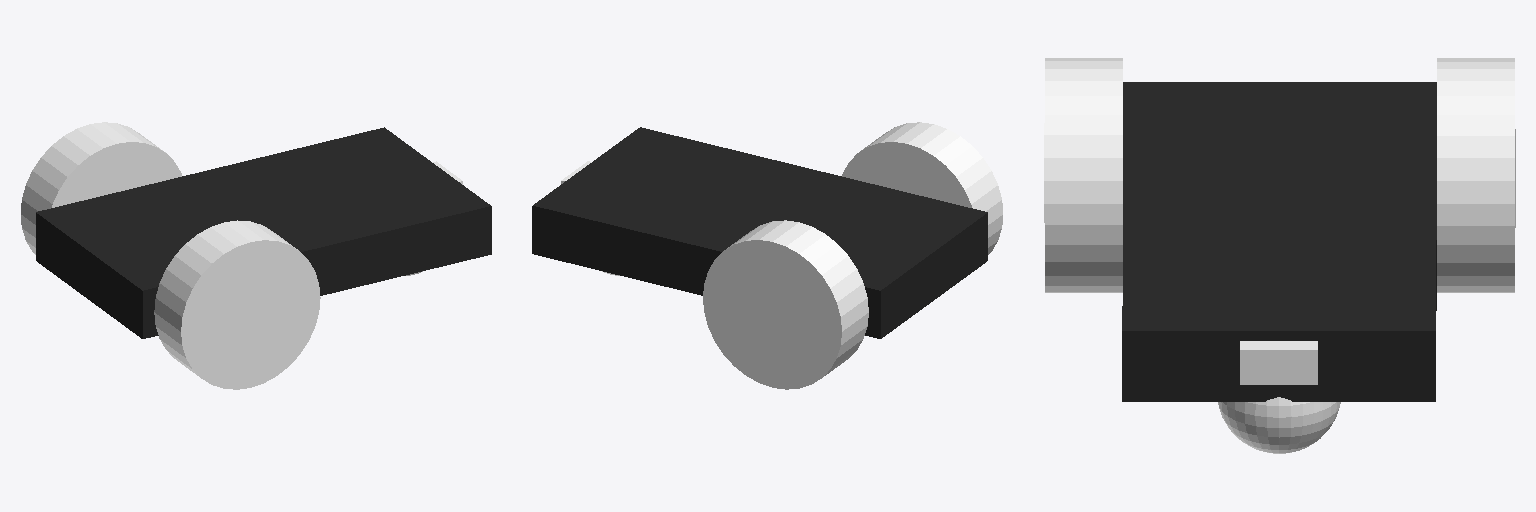
The robot description file, URDF, robot "three_wheeled_robot":
<?xml version="1.0" ?>

<robot name = "three_wheeled_robot">

  <link name="base_footprint"/>

    <link name="base">
        <visual>
        <geometry>
            <box size="0.75 0.4 0.1"/>
        </geometry>
        <material name="gray">
            <color rgba=".2 .2 .2 1" />
        </material>
        </visual>

        <inertial>
            <mass value="1" />
            <inertia ixx="0.01" ixy="0.0" ixz="0" iyy="0.01" iyz="0" izz="0.01" />
        </inertial>

        <collision>
        <geometry>
            <box size="0.75 0.4 0.1"/>
        </geometry>
        </collision>

    </link>

    <joint name="footprint_joint" type="fixed">
      <origin xyz="0.0 0.0 0.0" rpy="0.0 0.0 3.14"/>
      <parent link="base_footprint"/>
      <child link="base"/>
      <axis xyz="0.0 0.0 0.0"/>
  </joint>

    <link name="wheel_right_link">
        <inertial>
                <mass value="2" />
                <inertia ixx="0.01" ixy="0.0" ixz="0"
                iyy="0.01" iyz="0" izz="0.01" />
        </inertial>
    
        <visual>
            <geometry>
              <cylinder radius="0.15" length="0.1"/>
            </geometry>
            <material name="white">
            <color rgba="1 1 1 1"/>
            </material>
        </visual>
    
        <collision>        
            <geometry>
              <cylinder radius="0.15" length="0.1"/>
            </geometry>
          <contact_coefficients mu="1" kp="1e+13" kd="1.0"/>
        </collision>
    </link>
    
    <joint name="wheel_right_joint" type="continuous">
        <origin xyz="0.2 0.25 0.0" rpy="1.57 0.0 0.0"/>
        <parent link="base"/>
        <child link="wheel_right_link"/>
        <axis xyz="0.0 0.0 1.0"/>
    </joint>
    
    
    
    <link name="wheel_left_link">
        <inertial>
            <mass value="2" />
            <inertia ixx="0.01" ixy="0.0" ixz="0"
                iyy="0.01" iyz="0" izz="0.01" />
        </inertial>
    
        <visual>          
          <geometry>
              <cylinder radius="0.15" length="0.1"/>
          </geometry>
          <material name="white">
            <color rgba="1 1 1 1"/>
          </material>
        </visual>
    
        <collision>
          <geometry>
              <cylinder radius="0.15" length="0.1"/>
          </geometry>
          <contact_coefficients mu="1" kp="1e+13" kd="1.0"/>
        </collision>
    </link>
    
    <joint name="wheel_left_joint" type="continuous">
        <origin xyz="0.2 -0.25 0.0" rpy="1.57 0.0 0.0"/>
        <parent link="base"/>
        <child link="wheel_left_link"/>
        <axis xyz="0.0 0.0 1.0"/>    
    </joint>
    
    
    
    <link name="caster">
        <inertial>
                <mass value="1" />
                <inertia ixx="0.01" ixy="0.0" ixz="0"
                iyy="0.01" iyz="0" izz="0.01" />
        </inertial>
    
        <visual>        
          <geometry>
            <sphere radius=".08" />
          </geometry>
          <material name="white" />
        </visual>
    
        <collision>
          <origin/>
          <geometry>
            <sphere radius=".08" />
          </geometry>
        </collision>
    </link>
    
    <joint name="caster_joint" type="continuous">
        <origin xyz="-0.3 0.0 -0.07" rpy="0.0 0.0 0.0"/>
        <axis xyz="0 0 1" />
        <parent link="base"/>
        <child link="caster"/>
    </joint>
     
    <link name="camera">
        <inertial>
                <mass value="0.1" />
                <inertia ixx="0.01" ixy="0.0" ixz="0"
                iyy="0.01" iyz="0" izz="0.01" />
        </inertial>
    
        <visual>          
          <geometry>
            <box size="0.1 0.1 0.05"/>
          </geometry>
          <material name="white">
            <color rgba="1 1 1 1"/>
          </material>
        </visual>

        <collision>
          <geometry>
              <box size="0.1 0.1 0.05"/>
          </geometry>
        </collision>
    </link>
    
    <joint name="camera_joint" type="fixed">
        <origin xyz="-0.35 0 0.01" rpy="0 0.0 3.14"/>
        <parent link="base"/>
        <child link="camera"/>
        <axis xyz="0.0 0.0 1.0"/>    
    </joint>
    

    


    <!--http://wiki.ros.org/simulator_gazebo/Tutorials/ListOfMaterials-->
    <gazebo reference="base">
        <material>Gazebo/WhiteGlow</material>
    </gazebo>
    <gazebo reference="wheel_left_link">
        <material>Gazebo/SkyBlue</material>
    </gazebo>
    <gazebo reference="wheel_right_link">
        <material>Gazebo/SkyBlue </material>
    </gazebo>
    <gazebo reference="caster">
        <material>Gazebo/Grey</material>
    </gazebo>
    <gazebo reference="lidar">
        <material>Gazebo/Blue</material>
    </gazebo>
    <gazebo reference="camera">
        <material>Gazebo/Red</material>
    </gazebo>


    <!--camera rot-->
    <joint name="camera_joint_rot" type="fixed">
      <parent link="camera" />
      <child link="camera_bottom_screw_frame" />
      <origin xyz="0 0.0 0" rpy="0 0 0" />
    </joint>

    <link name="camera_link_depth"></link>
    <link name="camera_bottom_screw_frame"></link>
    <link name="camera_depth_frame"></link>
    <link name="camera_depth_optical_frame"></link>
    <link name="camera_color_frame"></link>
    <link name="camera_color_optical_frame"></link>
    <link name="camera_left_ir_frame"></link>
    <link name="camera_left_ir_optical_frame"></link>
    <link name="camera_right_ir_frame"></link>
    <link name="camera_right_ir_optical_frame"></link>


    <joint name="camera_link_joint" type="fixed">
      <parent link="camera_bottom_screw_frame" />
      <child link="camera_link_depth" />
      <origin xyz="0 0.0 0.0 " rpy="0 0 0" />
    </joint>
    
    <joint name="camera_depth_joint" type="fixed">
      <parent link="camera_link_depth" />
      <child link="camera_depth_frame" />
      <origin xyz="0 0 0" rpy="0 0 0" />
    </joint>
    <joint name="camera_depth_optical_joint" type="fixed">
      <parent link="camera_depth_frame" />
      <child link="camera_depth_optical_frame" />
      <origin xyz="0 0 0 " rpy="-1.57 0 -1.57" />
    </joint>
    <joint name="camera_color_joint" type="fixed">
      <parent link="camera_depth_frame" />
      <child link="camera_color_frame" />
      <origin xyz="0 0 0" rpy="0 0 0" />
    </joint>
    <joint name="camera_color_optical_joint" type="fixed">
      <parent link="camera_color_frame" />
      <child link="camera_color_optical_frame" />
      <origin xyz="0 0 0 " rpy="-1.57 0 -1.57" />
    </joint>
    <joint name="camera_left_ir_joint" type="fixed">
      <parent link="camera_depth_frame" />
      <child link="camera_left_ir_frame" />
      <origin xyz="0 0 0 " rpy="0 0 0 " />
    </joint>
    <joint name="camera_left_ir_optical_joint" type="fixed">
      <parent link="camera_left_ir_frame" />
      <child link="camera_left_ir_optical_frame" />
      <origin xyz="0 0 0 " rpy="-1.57 0 -1.57" />
    </joint>
    <joint name="camera_right_ir_joint" type="fixed">
      <parent link="camera_depth_frame" />
      <child link="camera_right_ir_frame" />
      <origin xyz="0 -0.050 0 " rpy="0 0 0" />
    </joint>
    <joint name="camera_right_ir_optical_joint" type="fixed">
      <parent link="camera_right_ir_frame" />
      <child link="camera_right_ir_optical_frame" />
      <origin xyz="0 0 0 " rpy="-1.57 0 -1.57" />
    </joint>
    
    




    <!--camera rot end-->
  
    <!-- differential robot-->
    <gazebo>
        <plugin filename="libgazebo_ros_diff_drive.so" name="gazebo_base_controller">
          <alwaysOn>true</alwaysOn>
          <odometryTopic>odom</odometryTopic>
          <odometryFrame>odom</odometryFrame>
          <commandTopic>cmd_vel</commandTopic>
          <publish_odom>true</publish_odom>
          <publish_odom_tf>true</publish_odom_tf>
          <update_rate>60.0</update_rate>
    
          <leftJoint>wheel_left_joint</leftJoint>
          <rightJoint>wheel_right_joint</rightJoint>
          <publishWheelJointState>true</publishWheelJointState>
          <publishWheelTF>false</publishWheelTF>
          
          <wheel_separation>0.5</wheel_separation>
          <wheel_diameter>0.3</wheel_diameter>
          <max_wheel_acceleration>0.7</max_wheel_acceleration>
          <max_wheel_torque>8</max_wheel_torque>
          <robotBaseFrame>base_footprint</robotBaseFrame>
        </plugin>
    </gazebo>
    
    <!-- camera plugin-->
    <gazebo reference="camera_bottom_screw_frame"> 
      <sensor name="cameradepth" type="depth">
              <camera name="camera">
                  <horizontal_fov>1.2043</horizontal_fov>
                  <image>
                      <width>1280</width>
                      <height>720</height>
                      <format>R8G8B8</format>
                  </image>
                  <clip>
                      <near>0.1</near>
                      <far>100</far>
                  </clip>
              </camera>
              <always_on>1</always_on>
              <update_rate>30</update_rate>
              <visualize>0</visualize>
          </sensor>
          <sensor name="cameracolor" type="camera">
              <camera name="camera">
                  <horizontal_fov>1.2043</horizontal_fov>
                  <image>
                      <width>1280</width>
                      <height>720</height>
                      <format>RGB_INT8</format>
                  </image>
                  <clip>
                      <near>0.1</near>
                      <far>100</far>
                  </clip>
                  <noise>
                      <type>gaussian</type>
                      <mean>0.0</mean>
                      <stddev>0.007</stddev>
                  </noise>
              </camera>
              <always_on>1</always_on>
              <update_rate>30</update_rate>
              <visualize>0</visualize>
          </sensor>
          <sensor name="cameraired1" type="camera">
              <camera name="camera">
                  <horizontal_fov>1.2043</horizontal_fov>
                  <image>
                      <width>1280</width>
                      <height>720</height>
                      <format>L_INT8</format>
                  </image>
                  <clip>
                      <near>0.1</near>
                      <far>100</far>
                  </clip>
                  <noise>
                      <type>gaussian</type>
                      <mean>0.0</mean>
                      <stddev>0.05</stddev>
                  </noise>
              </camera>
              <always_on>1</always_on>
              <update_rate>1</update_rate>
              <visualize>0</visualize>
          </sensor>
          <sensor name="cameraired2" type="camera">
              <camera name="camera">
                  <horizontal_fov>1.2043</horizontal_fov>
                  <image>
                      <width>1280</width>
                      <height>720</height>
                      <format>L_INT8</format>
                  </image>
                  <clip>
                      <near>0.1</near>
                      <far>100</far>
                  </clip>
                  <noise>
                      <type>gaussian</type>
                      <mean>0.0</mean>
                      <stddev>0.05</stddev>
                  </noise>
              </camera>
              <always_on>1</always_on>
              <update_rate>1</update_rate>
              <visualize>0</visualize>
          </sensor>

    
    </gazebo>

<!-- Adding plugin -->
    <gazebo>
    <plugin name="camera" filename="librealsense_gazebo_plugin.so">
          <prefix>camera</prefix>
          <depthUpdateRate>15.0</depthUpdateRate>
          <colorUpdateRate>15.0</colorUpdateRate>
          <infraredUpdateRate>15.0</infraredUpdateRate>
          <depthTopicName>aligned_depth_to_color/image_raw</depthTopicName>
          <depthCameraInfoTopicName>depth/camera_info</depthCameraInfoTopicName>
          <colorTopicName>color/image_raw</colorTopicName>
          <colorCameraInfoTopicName>color/camera_info</colorCameraInfoTopicName>
          <infrared1TopicName>infra1/image_raw</infrared1TopicName>
          <infrared1CameraInfoTopicName>infra1/camera_info</infrared1CameraInfoTopicName>
          <infrared2TopicName>infra2/image_raw</infrared2TopicName>
          <infrared2CameraInfoTopicName>infra2/camera_info</infrared2CameraInfoTopicName>
          <colorOpticalframeName>camera_color_optical_frame</colorOpticalframeName>
          <depthOpticalframeName>camera_depth_optical_frame</depthOpticalframeName>
          <infrared1OpticalframeName>camera_left_ir_optical_frame</infrared1OpticalframeName>
          <infrared2OpticalframeName>camera_right_ir_optical_frame</infrared2OpticalframeName>
          <rangeMinDepth>0.1</rangeMinDepth>
          <rangeMaxDepth>10.0</rangeMaxDepth>
          <pointCloud>true</pointCloud>
          <pointCloudTopicName>depth/color/points</pointCloudTopicName>
          <pointCloudCutoff>0.1</pointCloudCutoff>
          <pointCloudCutoffMax>10</pointCloudCutoffMax>
    </plugin>

    </gazebo>

</robot>

--- Render facts (derived) ---
The picture shows the robot from 3 angles, left to right: view 1: azimuth 30°, elevation 25°; view 2: azimuth 150°, elevation 25°; view 3: azimuth 270°, elevation 25°; orthographic projection.
Robot: three_wheeled_robot — 16 links, 15 joints (3 continuous, 12 fixed); root link base_footprint; default pose: all joints at 0.
Links seen in each view (by area): view 1: base, wheel_right_link, wheel_left_link; view 2: base, wheel_left_link, wheel_right_link; view 3: base, wheel_right_link, wheel_left_link, caster, camera.
Link boxes in pixels (box(x1,y1,x2,y2)): base: box(36, 127, 491, 338); wheel_right_link: box(154, 220, 320, 389); wheel_left_link: box(21, 122, 181, 254); base: box(532, 127, 987, 338); wheel_left_link: box(703, 220, 868, 389); wheel_right_link: box(842, 122, 1002, 254); base: box(1122, 82, 1436, 401); wheel_right_link: box(1044, 58, 1122, 292); wheel_left_link: box(1437, 58, 1515, 292); caster: box(1218, 397, 1340, 453); camera: box(1240, 341, 1317, 384).
Bounding box of the posed robot: 0.7755 × 0.6005 × 0.3001 m (x, y, z).
Geometry: primitives only (box / cylinder / sphere), no mesh files.
